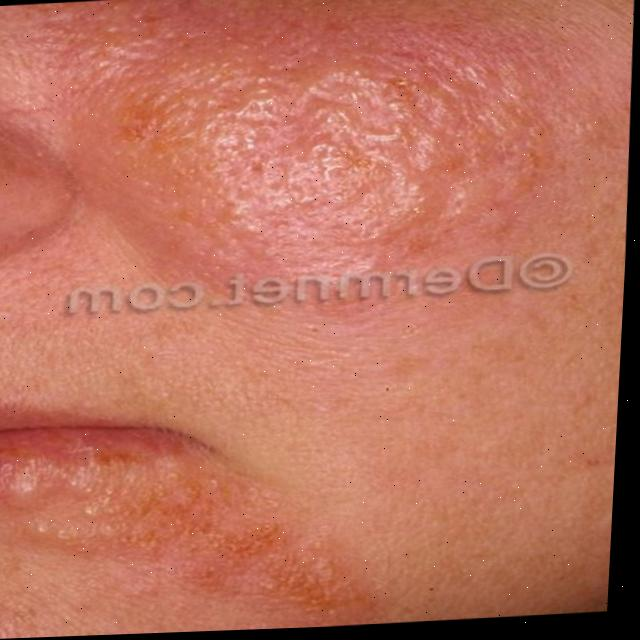Eczema: (70, 6, 557, 298)
